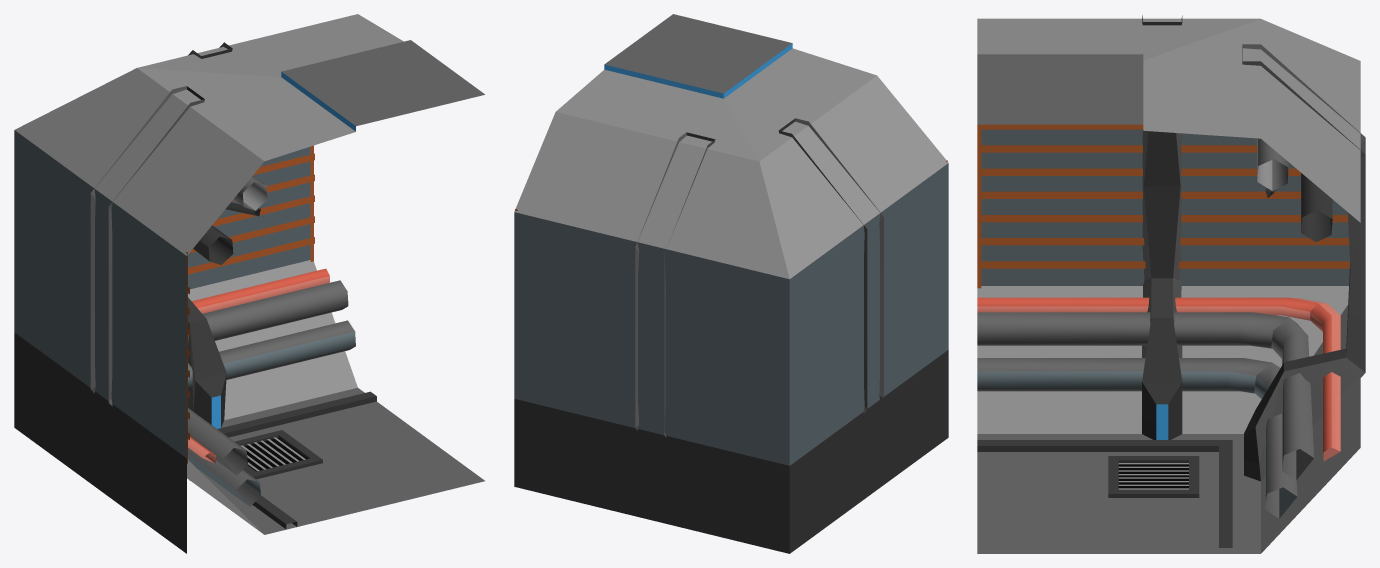
The model's file is Small_Outside_Corner_SciFi_Tunnel.fbx.
The picture shows the model from 3 angles, left to right: view 1: azimuth 30°, elevation 25°; view 2: azimuth 150°, elevation 25°; view 3: azimuth 270°, elevation 25°; orthographic projection. The views are drawn at different scales.
Parts seen in each view (by area): view 1: Small_Outside_Corner_SciFi_Tunnel, Small_Outside_Corner_SciFi_Tunnel_West, Small_Outside_Corner_SciFi_Tunnel_Ceiling, Small_Outside_Corner_SciFi_Tunnel_North; view 2: Small_Outside_Corner_SciFi_Tunnel_North, Small_Outside_Corner_SciFi_Tunnel_West, Small_Outside_Corner_SciFi_Tunnel, Small_Outside_Corner_SciFi_Tunnel_Ceiling; view 3: Small_Outside_Corner_SciFi_Tunnel, Small_Outside_Corner_SciFi_Tunnel_West, Small_Outside_Corner_SciFi_Tunnel_Ceiling, Small_Outside_Corner_SciFi_Tunnel_North.
Boxes of the visible parts, x1,y1,x2,y2 form: Small_Outside_Corner_SciFi_Tunnel: [14, 260, 484, 553]; Small_Outside_Corner_SciFi_Tunnel_West: [14, 68, 267, 480]; Small_Outside_Corner_SciFi_Tunnel_Ceiling: [137, 14, 484, 161]; Small_Outside_Corner_SciFi_Tunnel_North: [188, 42, 314, 428]; Small_Outside_Corner_SciFi_Tunnel_North: [514, 112, 789, 465]; Small_Outside_Corner_SciFi_Tunnel_West: [759, 75, 948, 465]; Small_Outside_Corner_SciFi_Tunnel: [514, 350, 948, 553]; Small_Outside_Corner_SciFi_Tunnel_Ceiling: [556, 14, 876, 161]; Small_Outside_Corner_SciFi_Tunnel: [977, 286, 1360, 553]; Small_Outside_Corner_SciFi_Tunnel_West: [977, 15, 1349, 439]; Small_Outside_Corner_SciFi_Tunnel_Ceiling: [977, 18, 1260, 138]; Small_Outside_Corner_SciFi_Tunnel_North: [1242, 19, 1365, 481].
Bounding box in the file's own units: 304 × 373 × 304.
